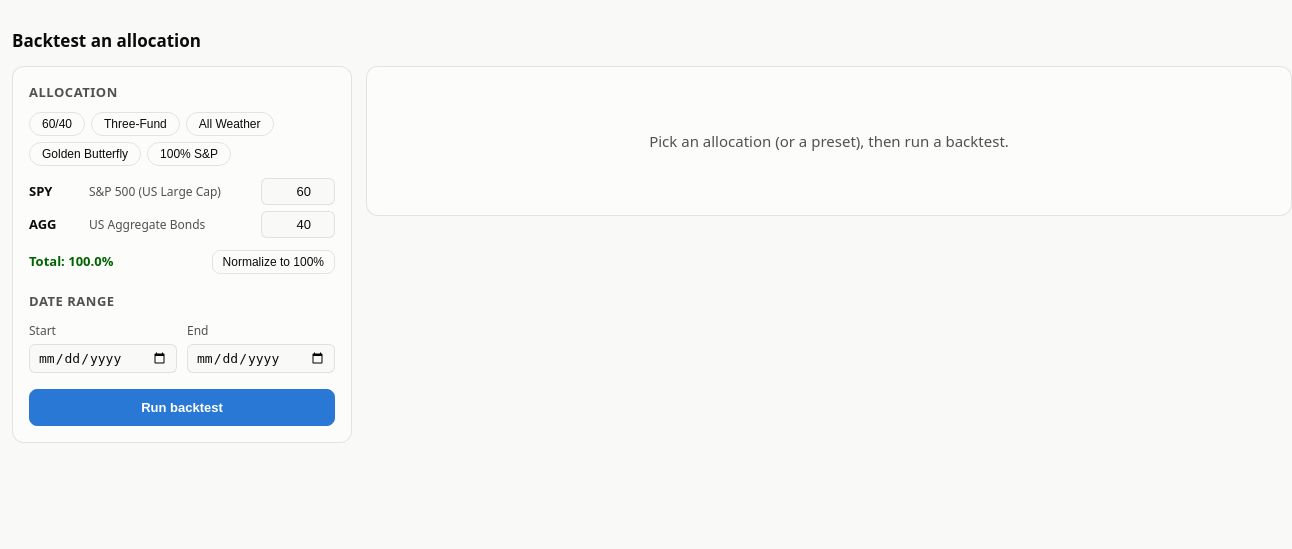
Test: Backtest › renders the risk panel and benchmark comparison after a run
Expected: the text "Total: 100.0%" is shown, top-left (29, 252), bottom-right (113, 272)
Click the button "Run backtest" at (182, 407), box top-left (29, 388), bottom-right (335, 426)
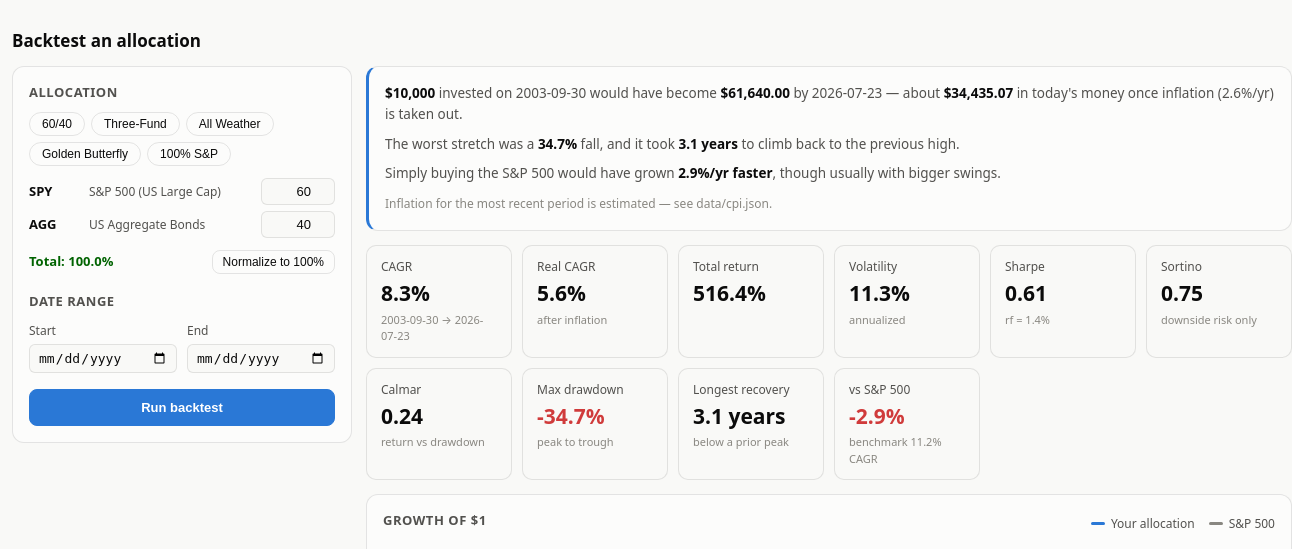
Result: the text "Sortino" is shown at top-left (1161, 258), bottom-right (1202, 276)
Result: the text "Calmar" is shown at top-left (381, 381), bottom-right (421, 398)
Result: the text "Longest recovery" is shown at top-left (693, 381), bottom-right (790, 398)
